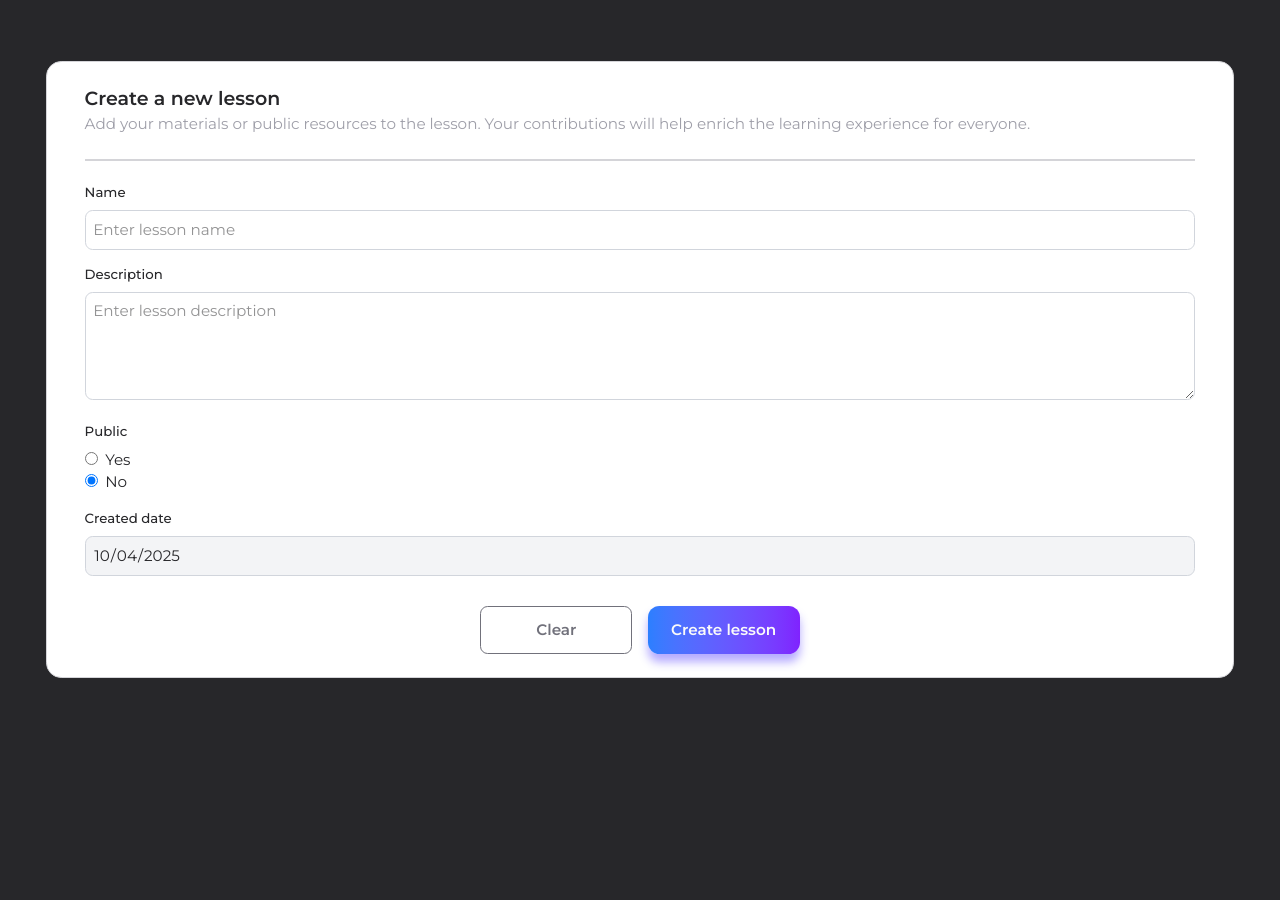
Test: CreateLessonPage Component › Form Validation › should show error for empty lesson name
The width and height of the screenshot is (1280, 900).
Click the button "Create lesson" at (724, 630), box left=648, top=606, right=800, bottom=654
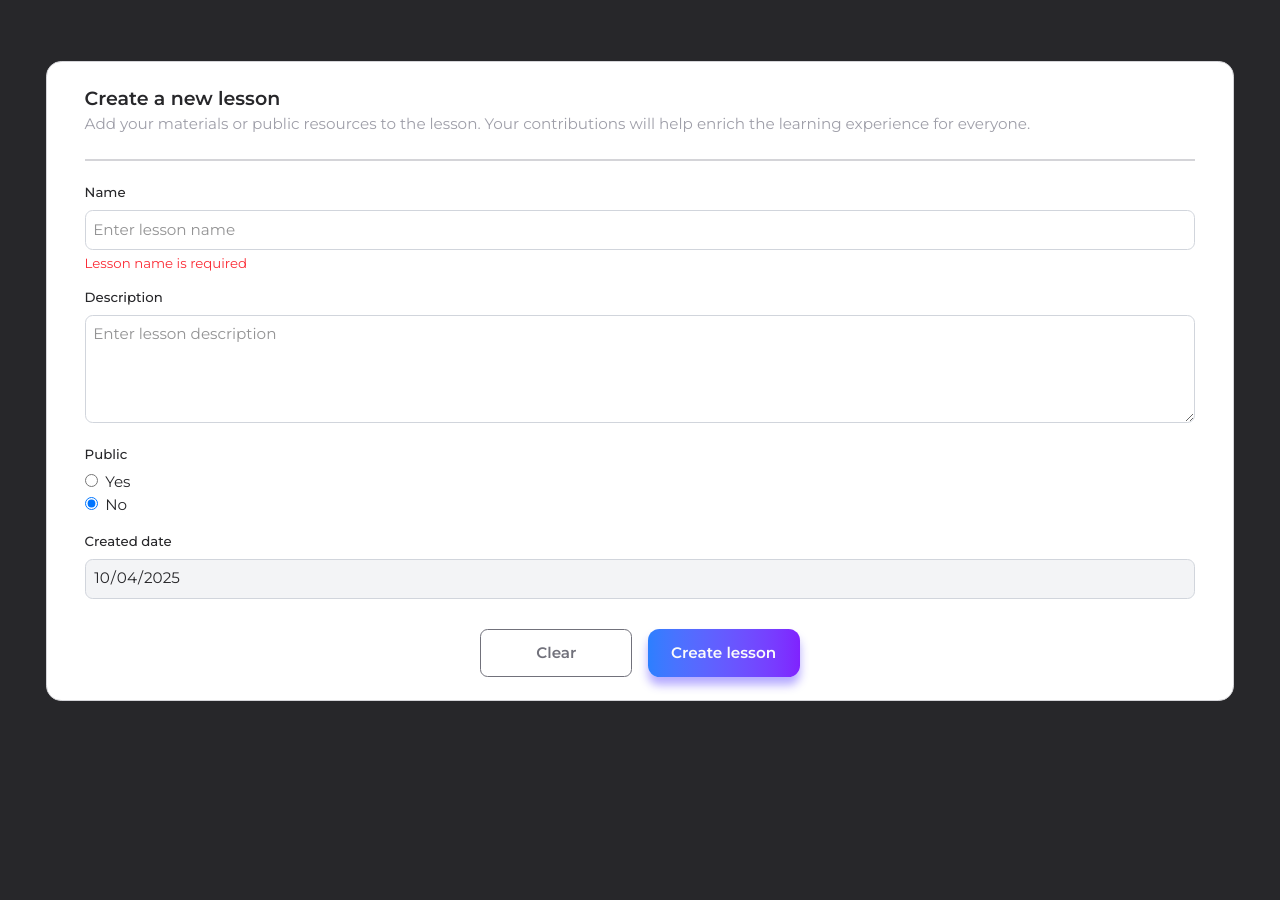
expect the text "Lesson name is required" is shown: met, box left=85, top=255, right=247, bottom=271
